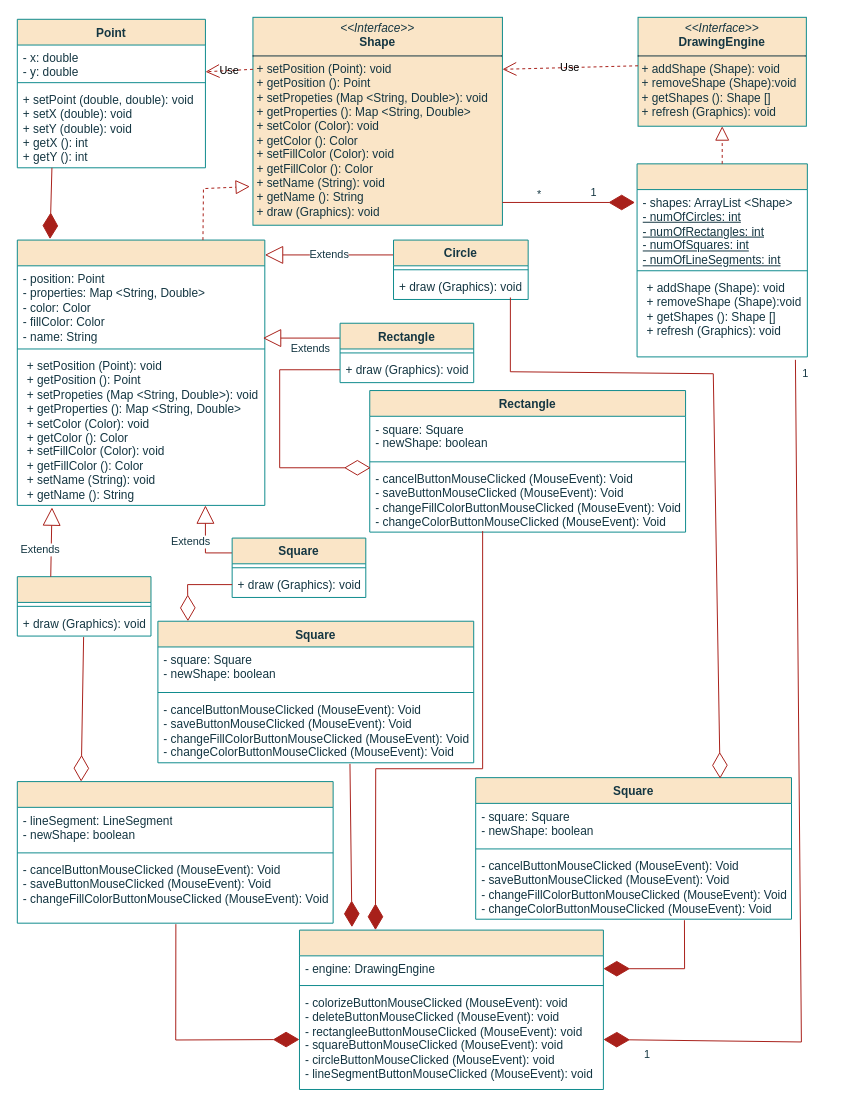
This 844x1110 diagram has some shape labels left out. The shapes that lost their labels are listed below. From the top down, each one's box as (x1, y1, x2, y2) in pixels, then its label:
(636, 163, 807, 357): MiniPaintEngine
(16, 239, 265, 505): AbstractShape
(16, 576, 151, 636): LineSegment
(16, 781, 333, 923): LineSegmentConfig
(298, 929, 603, 1089): AppFrontend
